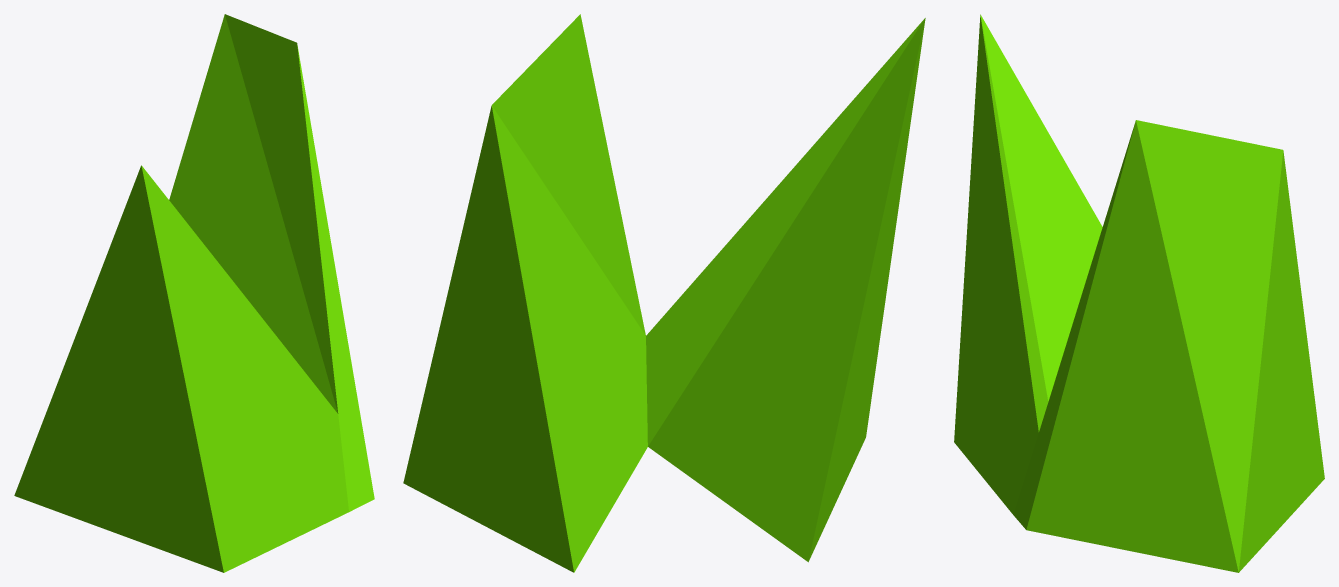
The model's file is mini grass.FBX.
3 views of the same model, side by side, from view 1: azimuth 30°, elevation 25°; view 2: azimuth 150°, elevation 25°; view 3: azimuth 270°, elevation 25° (orthographic). The views are drawn at different scales.
Parts seen in each view (by area): view 1: Grass_Patch_Square_002; view 2: Grass_Patch_Square_002; view 3: Grass_Patch_Square_002.
Boxes of the visible parts, x1,y1,x2,y2 form: Grass_Patch_Square_002: (14, 14, 374, 572); Grass_Patch_Square_002: (403, 14, 925, 572); Grass_Patch_Square_002: (954, 14, 1324, 572).
Size of the model in its own units: 19.29 by 21.77 by 18.19.
